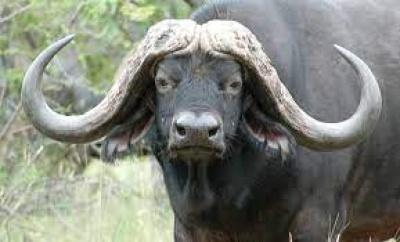buffalo: (23, 0, 400, 242)
